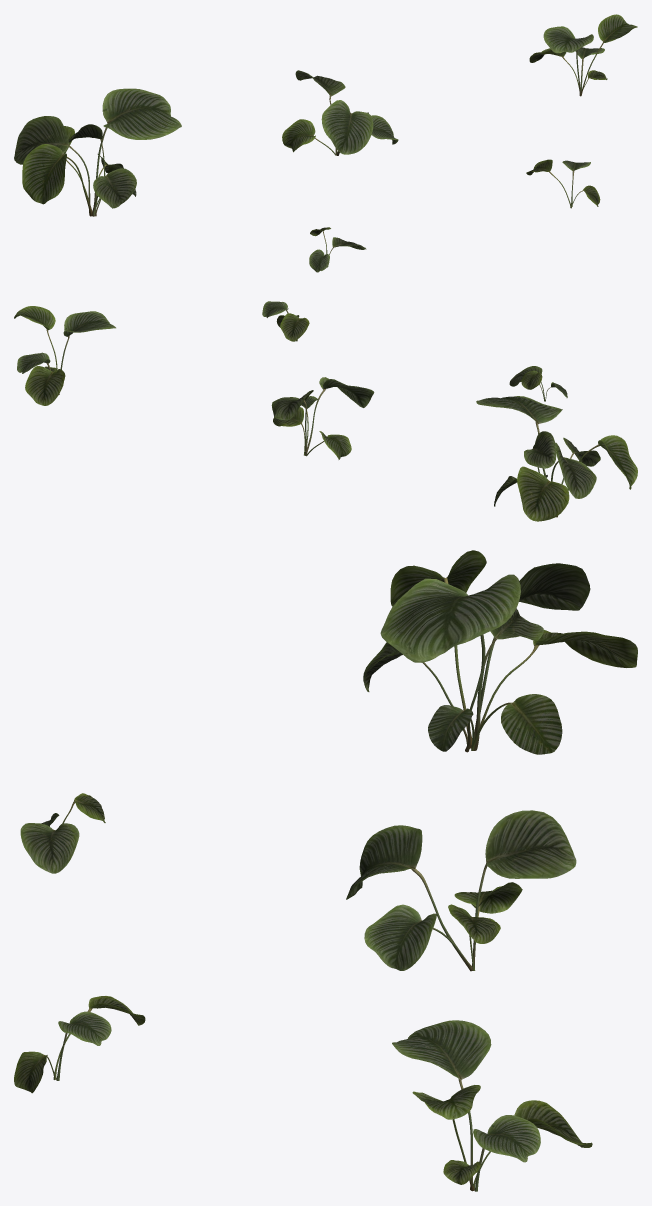
File: calathea_orbifolia_01.gltf
3 views of the same model, one above another, from view 1: azimuth 30°, elevation 25°; view 2: azimuth 150°, elevation 25°; view 3: azimuth 270°, elevation 25° (orthographic). The views are drawn at different scales.
Visible parts, largest first — view 1: calathea_orbifolia_01_a, calathea_orbifolia_01_b, calathea_orbifolia_01_c, calathea_orbifolia_01_e, calathea_orbifolia_01_d; view 2: calathea_orbifolia_01_a, calathea_orbifolia_01_c, calathea_orbifolia_01_b, calathea_orbifolia_01_e, calathea_orbifolia_01_d; view 3: calathea_orbifolia_01_a, calathea_orbifolia_01_b, calathea_orbifolia_01_c, calathea_orbifolia_01_e, calathea_orbifolia_01_d.
Part boxes in pixels (x1=…): calathea_orbifolia_01_a: x1=14, y1=88, x2=181, y2=216; calathea_orbifolia_01_b: x1=282, y1=70, x2=398, y2=155; calathea_orbifolia_01_c: x1=529, y1=14, x2=637, y2=96; calathea_orbifolia_01_e: x1=526, y1=159, x2=600, y2=208; calathea_orbifolia_01_d: x1=309, y1=227, x2=366, y2=272; calathea_orbifolia_01_a: x1=476, y1=396, x2=637, y2=521; calathea_orbifolia_01_c: x1=14, y1=306, x2=115, y2=405; calathea_orbifolia_01_b: x1=271, y1=377, x2=374, y2=459; calathea_orbifolia_01_e: x1=262, y1=301, x2=309, y2=341; calathea_orbifolia_01_d: x1=509, y1=366, x2=567, y2=401; calathea_orbifolia_01_a: x1=363, y1=550, x2=637, y2=754; calathea_orbifolia_01_b: x1=346, y1=810, x2=576, y2=971; calathea_orbifolia_01_c: x1=392, y1=1020, x2=592, y2=1191; calathea_orbifolia_01_e: x1=14, y1=996, x2=145, y2=1093; calathea_orbifolia_01_d: x1=20, y1=793, x2=105, y2=873.
Bounding box in the file's own units: 2.49 × 0.4243 × 1.19.
1 material, 1 textured.
